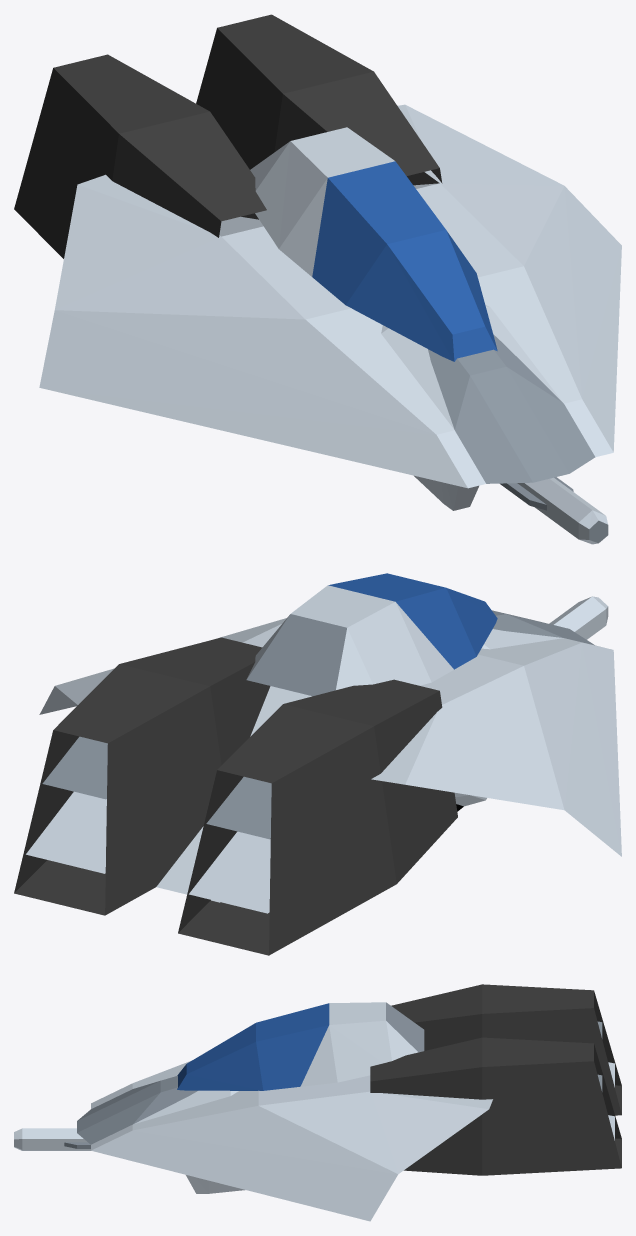
The model's file is Enemy.FBX.
3 views of the same model, one above another, from view 1: azimuth 30°, elevation 25°; view 2: azimuth 150°, elevation 25°; view 3: azimuth 270°, elevation 25° (orthographic). The views are drawn at different scales.
Parts seen in each view (by area): view 1: VIFS005, VIFS006, VIFS001, VIFS004, VIFS002, VIFS007, VIFS008; view 2: VIFS006, VIFS005, VIFS002, VIFS004, VIFS001, VIFS003, VIFS007; view 3: VIFS006, VIFS005, VIFS001, VIFS002, VIFS004, VIFS007, VIFS003.
Part boxes in pixels (x1,y1,x2,y2): VIFS005: (39,104,621,488); VIFS006: (14,14,442,258); VIFS001: (312,161,497,361); VIFS004: (428,334,595,483); VIFS002: (250,127,394,276); VIFS007: (414,475,607,544); VIFS008: (500,477,608,543); VIFS006: (14,637,457,955); VIFS005: (26,618,621,913); VIFS002: (246,585,453,689); VIFS004: (42,610,594,839); VIFS001: (328,573,497,669); VIFS003: (246,614,346,696); VIFS007: (454,596,608,806); VIFS006: (370,984,621,1175); VIFS005: (91,1060,614,1221); VIFS001: (177,1003,329,1090); VIFS002: (300,1002,418,1086); VIFS004: (77,1021,602,1144); VIFS007: (14,1128,244,1193); VIFS003: (386,1002,424,1052).
Bounding box in the file's own units: 1.92 × 0.8512 × 2.61.
